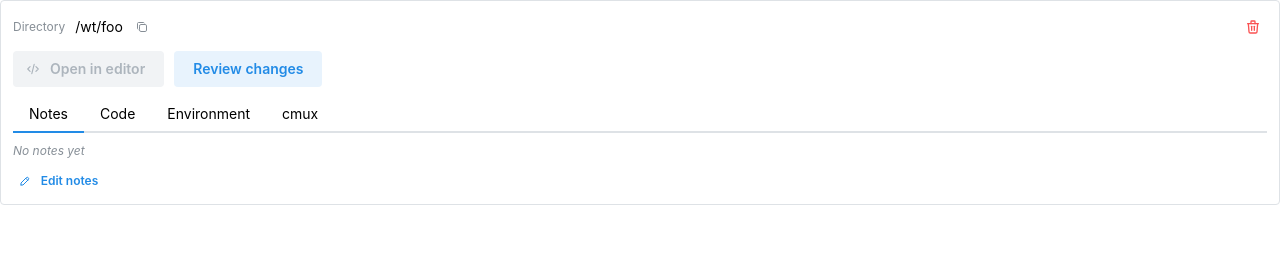
it: WorktreeDetailCard › hides the environment again on returning to Notes
The width and height of the screenshot is (1280, 263).
Click the tab "Environment".
click(209, 115)  # box 151,97 -> 266,133
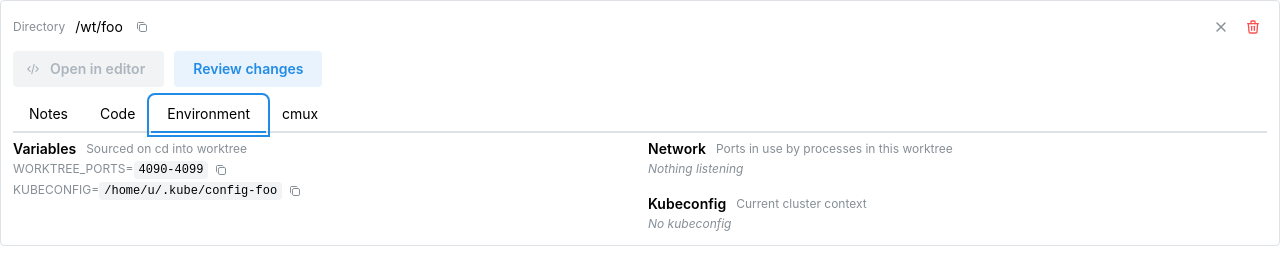
Click the tab "Notes".
click(48, 115)  # box 13,97 -> 84,133
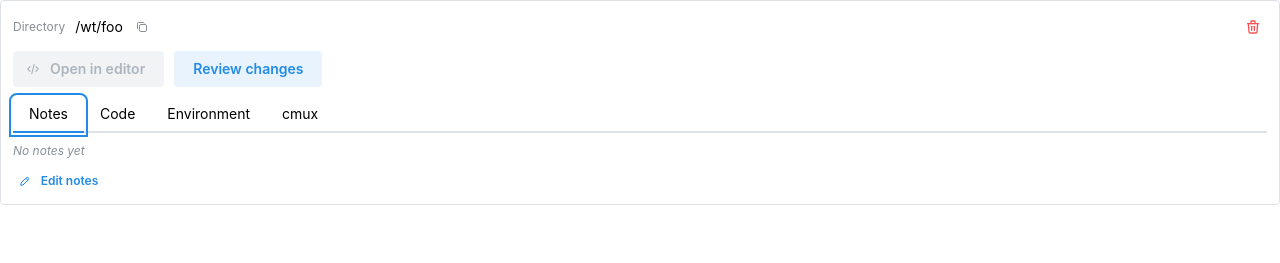
Now the text "4090-4099" is gone
